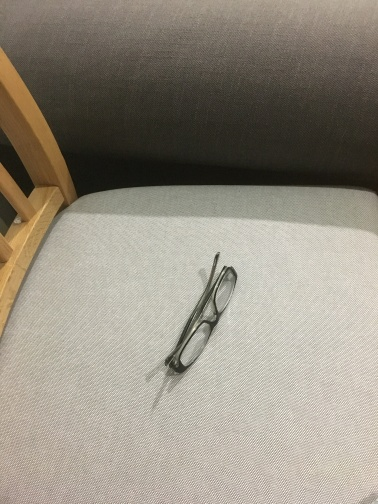glasses: (159, 248, 251, 378)
